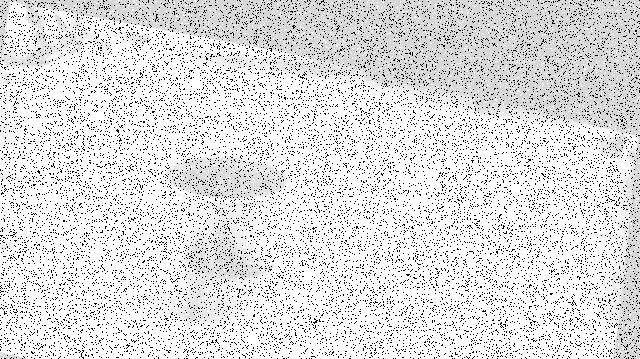pot: (159, 154, 291, 277)
